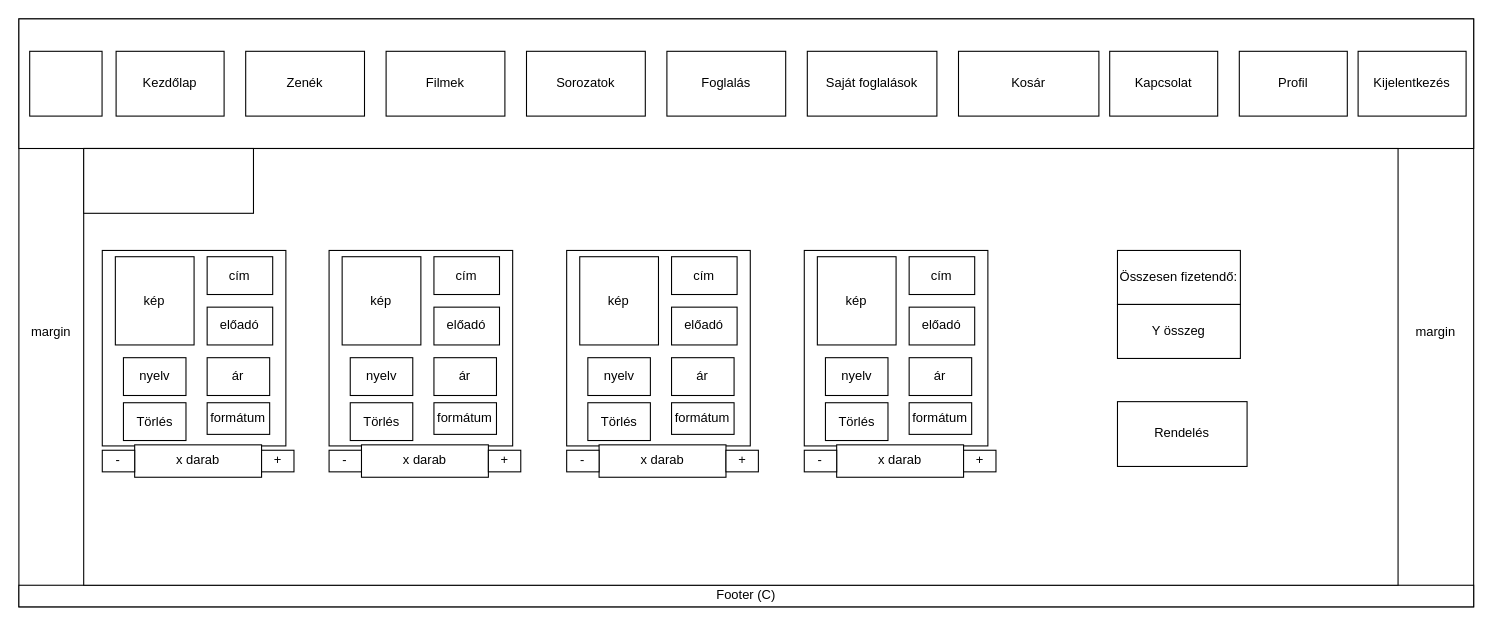
This 1493x626 diagram has some shape labels left out. The shapes that lost their labels are listed below. From the top down, each one's centre as x and y in pixels, then its label:
At (x=65, y=83): "Logo (opcionális)".
At (x=168, y=180): "Rendelési kosár".
